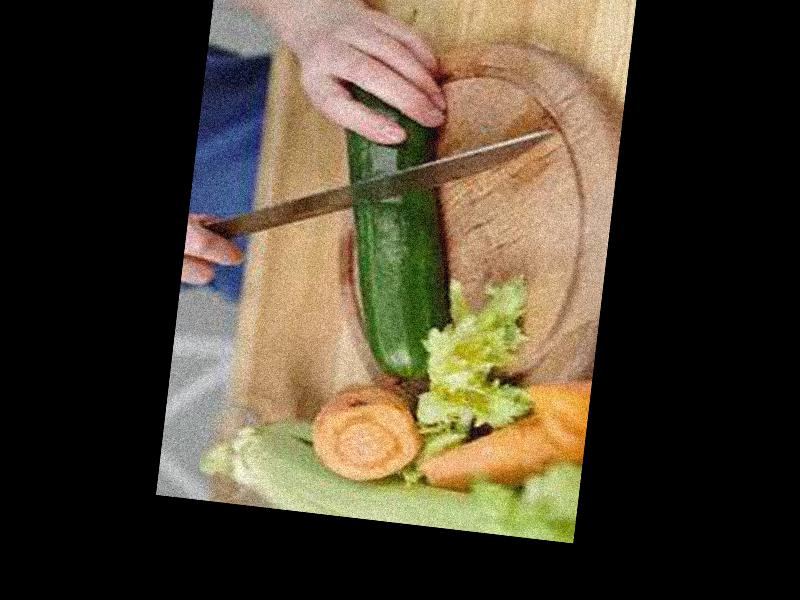Cucumber: (316, 84, 469, 384)
